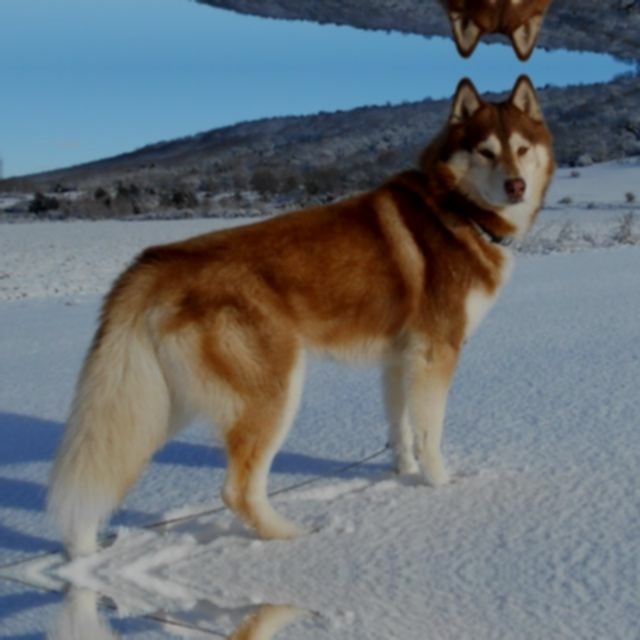dog: (40, 77, 555, 539), (40, 0, 555, 57), (40, 603, 555, 640)
